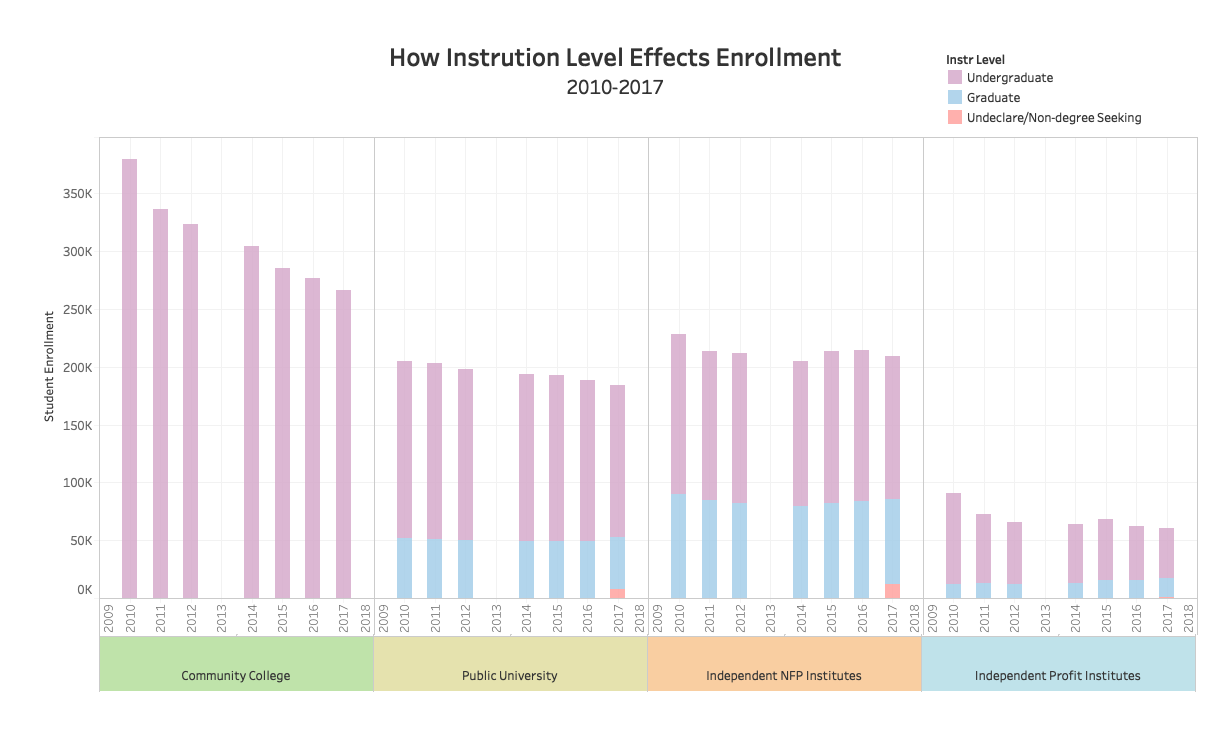

Layout of this report page (visuals, bound fields, positions):
{"tool":"tableau","page":{"name":"Dashboard 2","canvas":[1000,1000],"units":"permille","ordinal":1},"visuals":[{"type":"worksheet","title":"Sheet 5","mark":"Bar","rows":["Calculation_1312517869978537987","Calculation_1312517869981421574","Calculation_1312517869970886656","Calculation_1312517869971095553"],"cols":["Year"],"box":[14.7,22.8,964,945]},{"type":"legend","title":"Sheet 5","param":"[federated.1nt31td12r45vc1eib2vi05w9cpl].[max:Calculation_1312517869970886656:qk","box":[797.7,33.5,140.1,93.8]},{"type":"text","box":[361.2,80.4,96.6,845.8]}]}

Visuals, with their boxes on the dashboard's canvas, which has no fixed pixel size, in thousandths of its width and height (x1, y1, x2, y2). These are canvas units, not pixel positions in the 1221x746 screenshot, which may show the page scaled, cropped or inside an application window:
"Sheet 5" worksheet (Bar marks): region(15, 23, 979, 968)
"Sheet 5" legend: region(798, 34, 938, 127)
text: region(361, 80, 458, 926)
